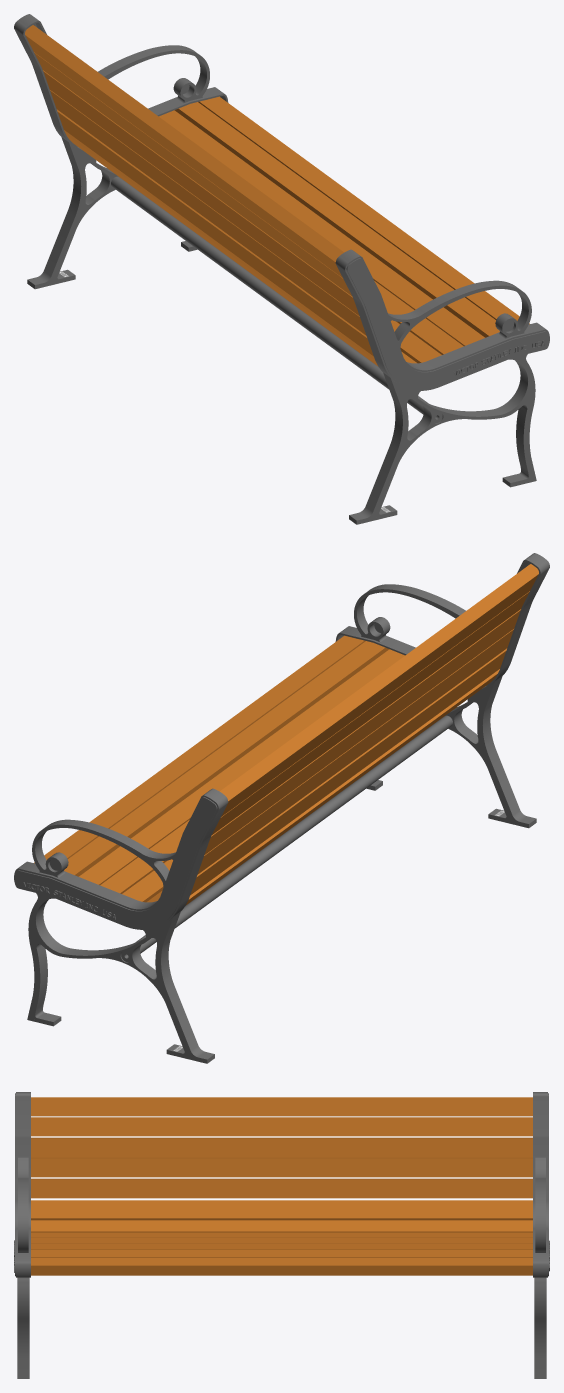
The model's file is bench.fbx.
The picture shows the model from 3 angles, top to bottom: view 1: azimuth 30°, elevation 25°; view 2: azimuth 150°, elevation 25°; view 3: azimuth 270°, elevation 25°; orthographic projection. The views are drawn at different scales.
Visible parts, largest first — view 1: ID57, ID75, ID15, group_5, group_2, ID39, ID104, ID27, ID33, group_4, ID63, ID110 (+7 smaller); view 2: ID57, ID75, ID15, group_6, group_2, ID39, ID167, ID27, ID33, group_4, ID63, ID173 (+7 smaller); view 3: ID27, ID33, ID39, ID51, ID57, ID63, ID15, ID45, ID75, group_2, ID21, ID69 (+6 smaller).
Boxes of the visible parts, x1,y1,x2,y2 form: ID57: [25, 25, 343, 277]; ID75: [174, 102, 499, 337]; ID15: [198, 96, 529, 324]; group_5: [349, 354, 536, 524]; group_2: [159, 110, 484, 346]; ID39: [57, 109, 373, 355]; ID104: [346, 258, 548, 389]; ID27: [43, 70, 359, 315]; ID33: [50, 90, 366, 335]; group_4: [111, 176, 428, 414]; ID63: [34, 52, 351, 295]; ID110: [335, 249, 549, 390]; ID57: [220, 564, 538, 816]; ID75: [64, 641, 389, 876]; ID15: [34, 635, 365, 863]; group_6: [27, 893, 214, 1063]; group_2: [79, 649, 404, 885]; ID39: [190, 648, 506, 894]; ID167: [15, 797, 217, 928]; ID27: [204, 609, 520, 854]; ID33: [197, 629, 513, 874]; group_4: [135, 715, 452, 953]; ID63: [212, 591, 529, 834]; ID173: [14, 788, 228, 929]; ID27: [31, 1137, 532, 1157]; ID33: [31, 1157, 532, 1177]; ID39: [31, 1178, 532, 1198]; ID51: [31, 1200, 532, 1220]; ID57: [31, 1097, 532, 1116]; ID63: [31, 1117, 532, 1136]; ID15: [31, 1257, 532, 1275]; ID45: [31, 1220, 532, 1232]; ID75: [31, 1249, 532, 1257]; group_2: [31, 1243, 532, 1249]; ID21: [31, 1238, 532, 1243]; ID69: [31, 1232, 532, 1237].
Bounding box in the file's own units: 25.24 × 71.17 × 31.61.
Materials: 3 (1 with a texture image).
